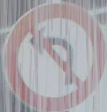Don't turn left: (9, 12, 92, 97)
